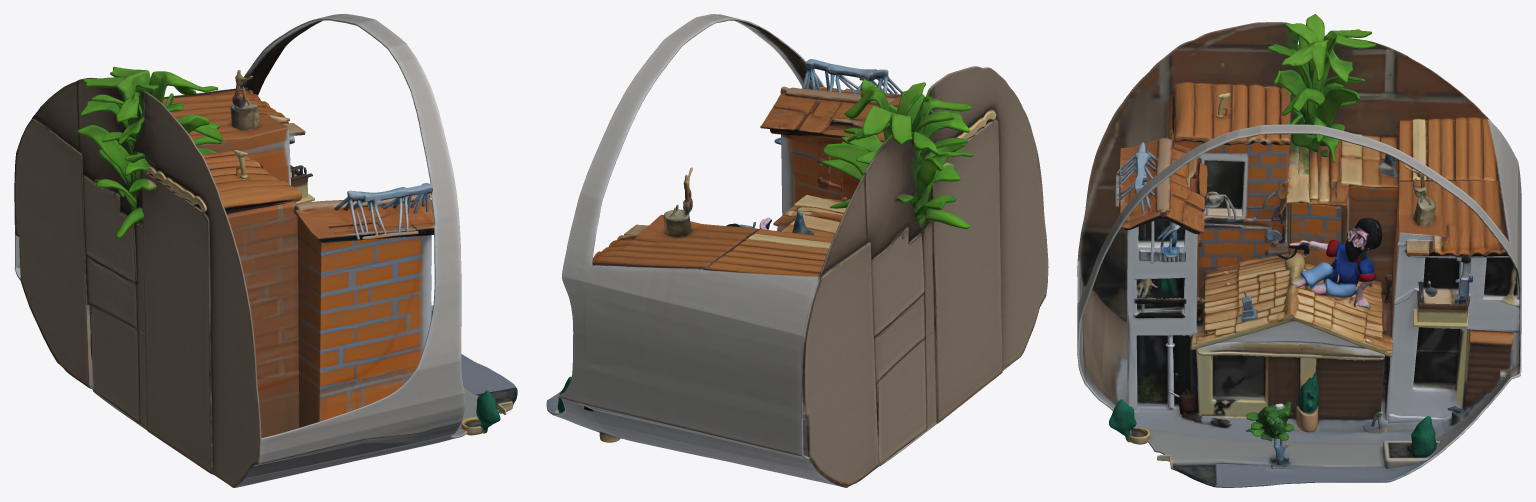
Rendered from modelo5.glb.
The picture shows the model from 3 angles, left to right: view 1: azimuth 30°, elevation 25°; view 2: azimuth 150°, elevation 25°; view 3: azimuth 270°, elevation 25°; orthographic projection. The views are drawn at different scales.
Visible parts, largest first — view 1: Object_01; view 2: Object_01; view 3: Object_01.
Part boxes in pixels (x1,y1,x2,y2): Object_01: (14,14,517,487); Object_01: (546,14,1048,487); Object_01: (1077,14,1521,487).
Size of the model in its own units: 0.8806 by 0.7942 by 1.
Materials: 1 (1 with a texture image).
